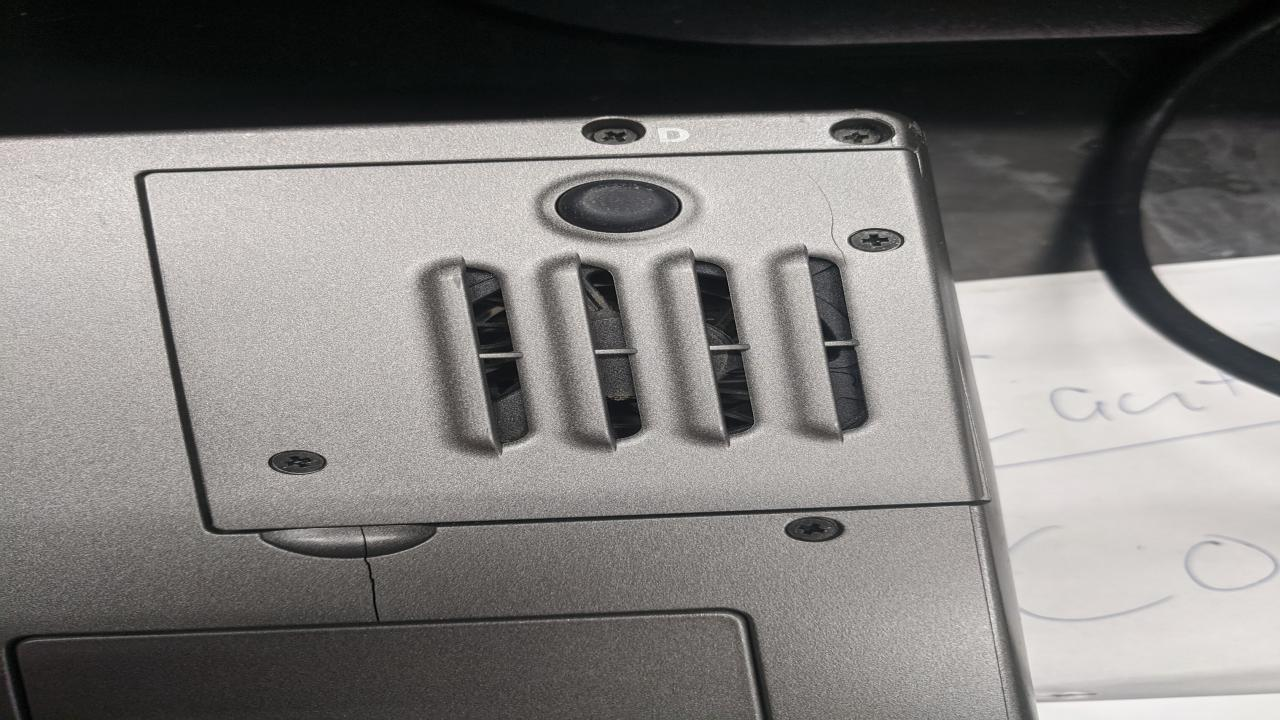CRS: (264, 450, 334, 476), (787, 516, 848, 543), (848, 228, 911, 252), (829, 124, 888, 148), (591, 122, 645, 146)
